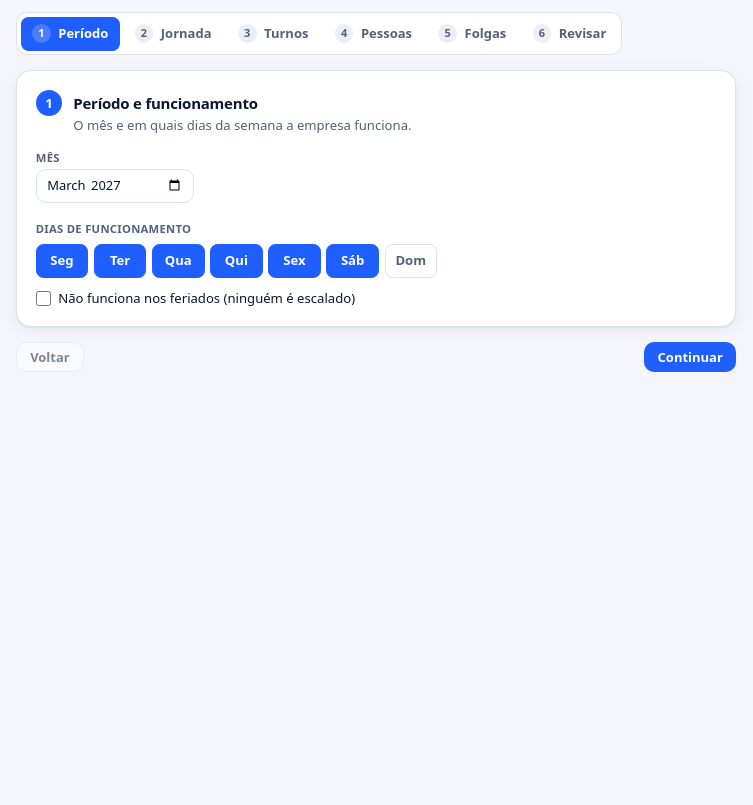
Test: Gerar escala (tela) › jornada: informar as horas ajusta a saída dos turnos que seguem a jornada e o pedido leva os horários ajustados e os dias
Click the button "2 Jornada" at (173, 34), box [123, 17, 223, 51]
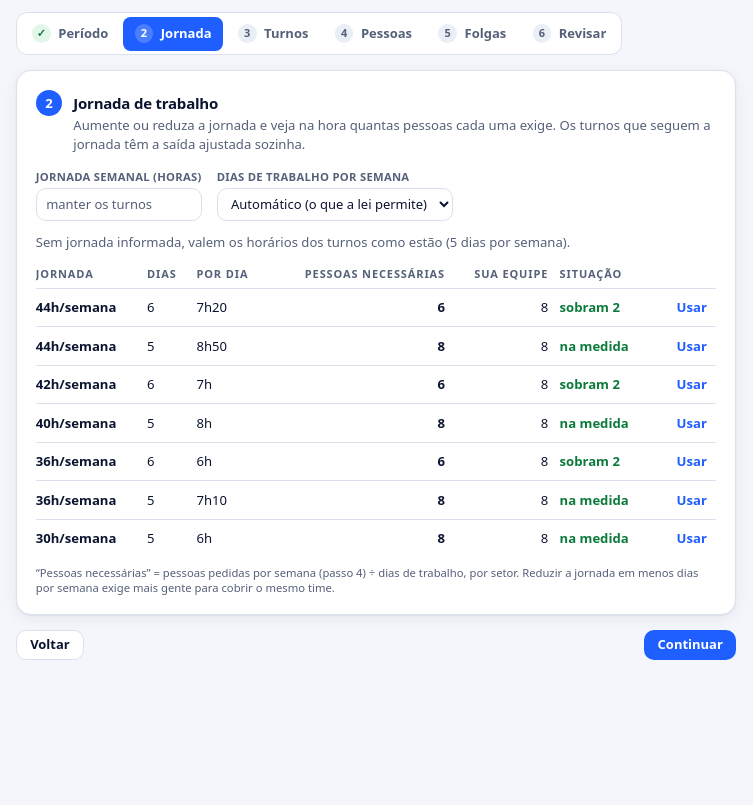
Type "36" into the number field labelled "Jornada semanal (horas)" at (119, 204), box [36, 188, 202, 221]
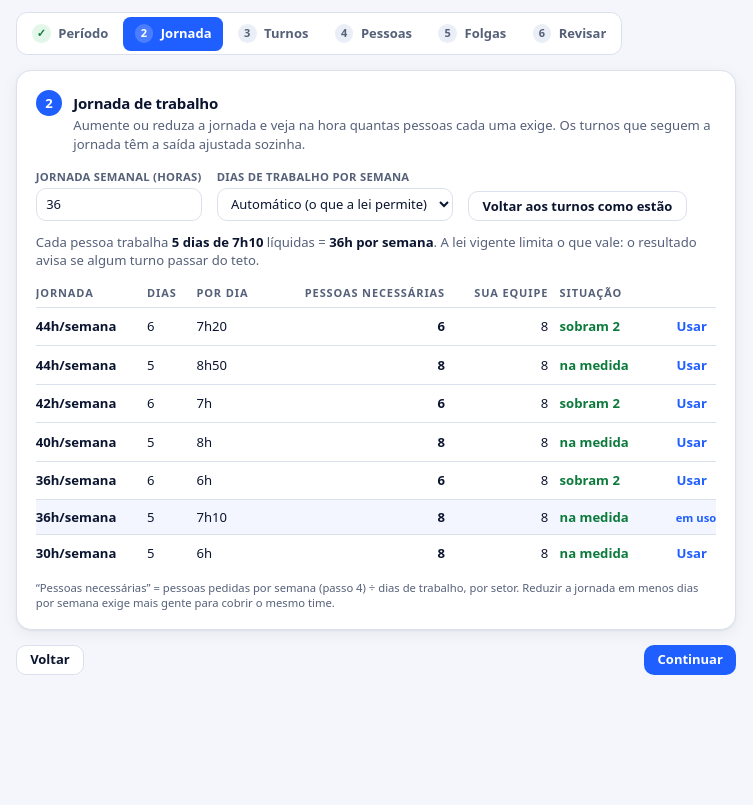
Select "5 dias (escala 5x2)" in the dropdown labelled "Dias de trabalho por semana" at (335, 204), box [217, 188, 454, 221]
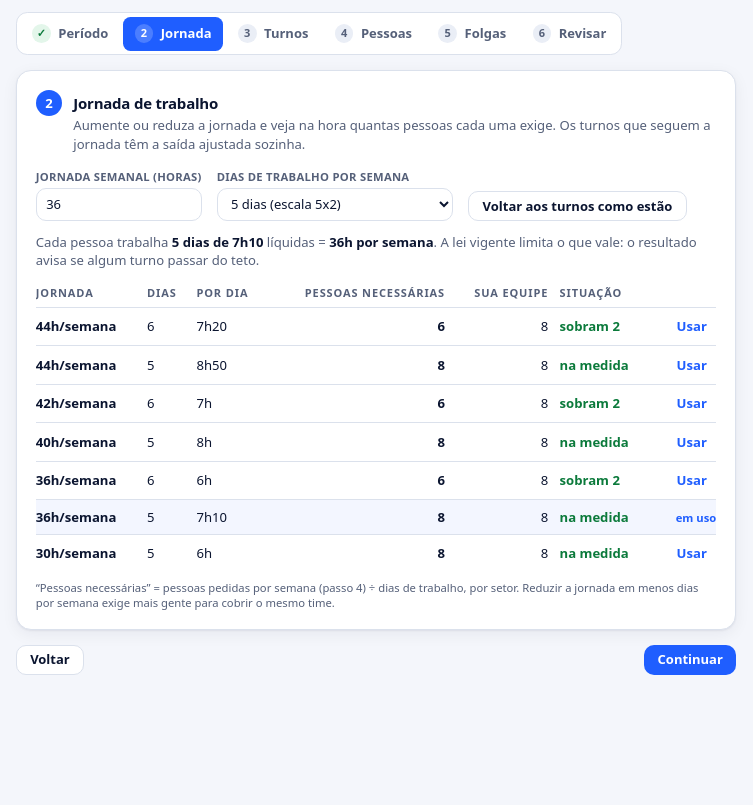
expect the text "5 dias de 7h10" is shown: met, box [172, 232, 263, 250]
Click the button "3 Turnos" at (273, 34), box [226, 17, 320, 51]
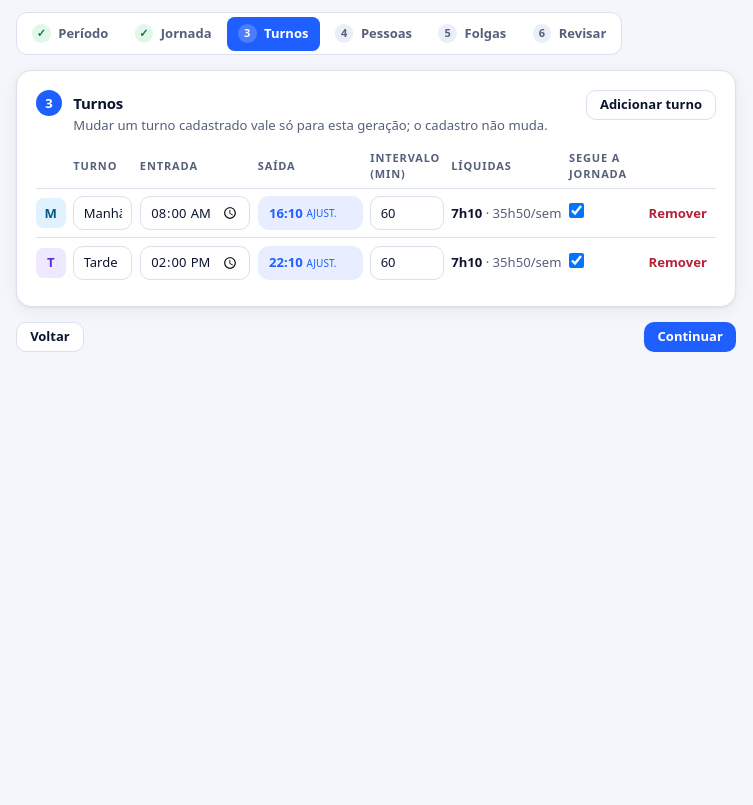
expect the element named "Saída do turno Manhã, ajustada pela jornada" shows "16:10": met, box [269, 204, 303, 222]
expect the element named "Saída do turno Tarde, ajustada pela jornada" shows "22:10": met, box [269, 253, 303, 271]
Click the button "6 Revisar" at (569, 34), box [521, 17, 618, 51]
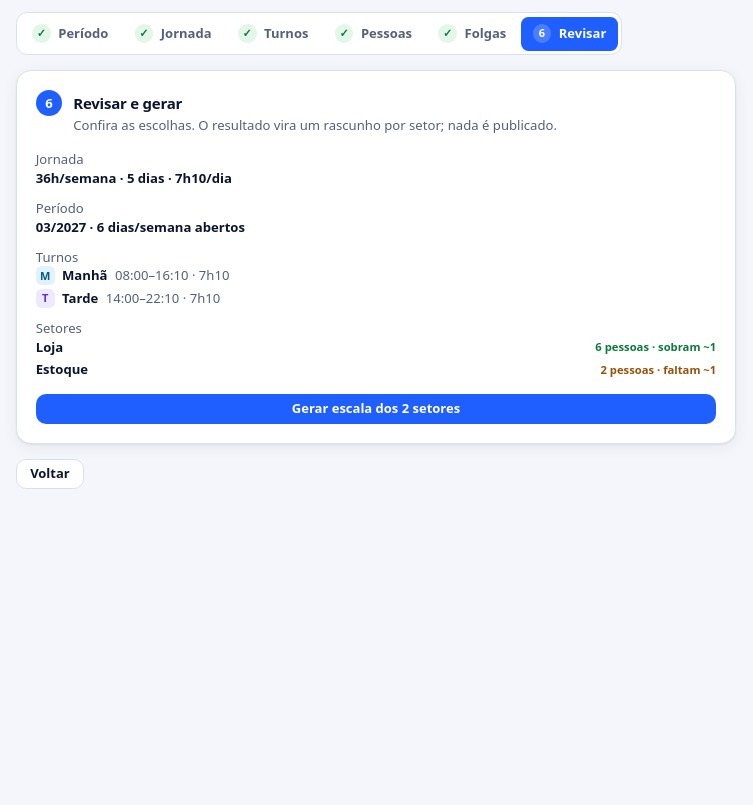
Click the button "Gerar escala dos 2 setores" at (376, 409), box [36, 394, 716, 424]
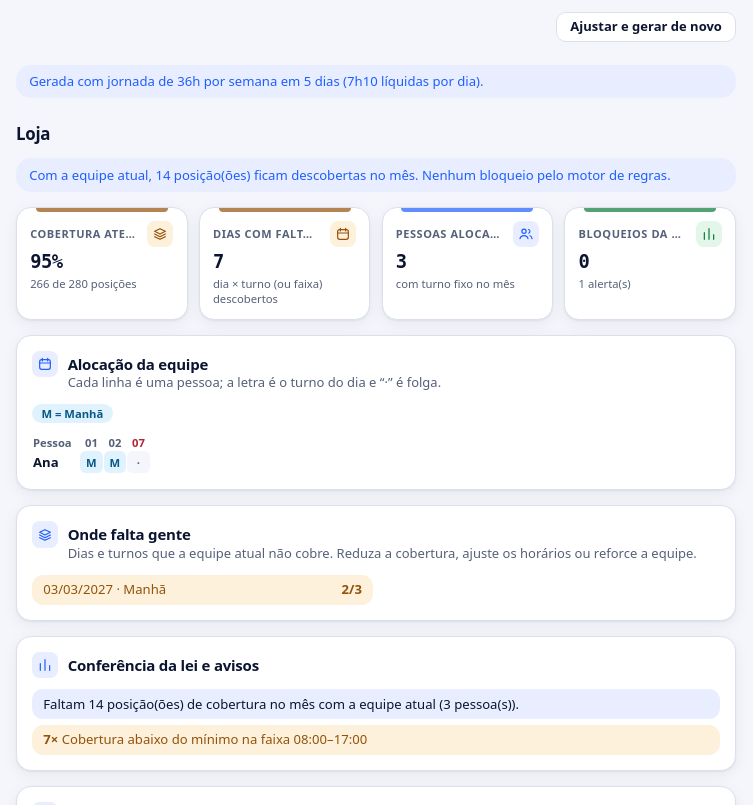
expect the text "Gerada com jornada de 36h por semana em 5 dias (7h10 líquidas por dia)." is shown: met, box [16, 64, 736, 98]
